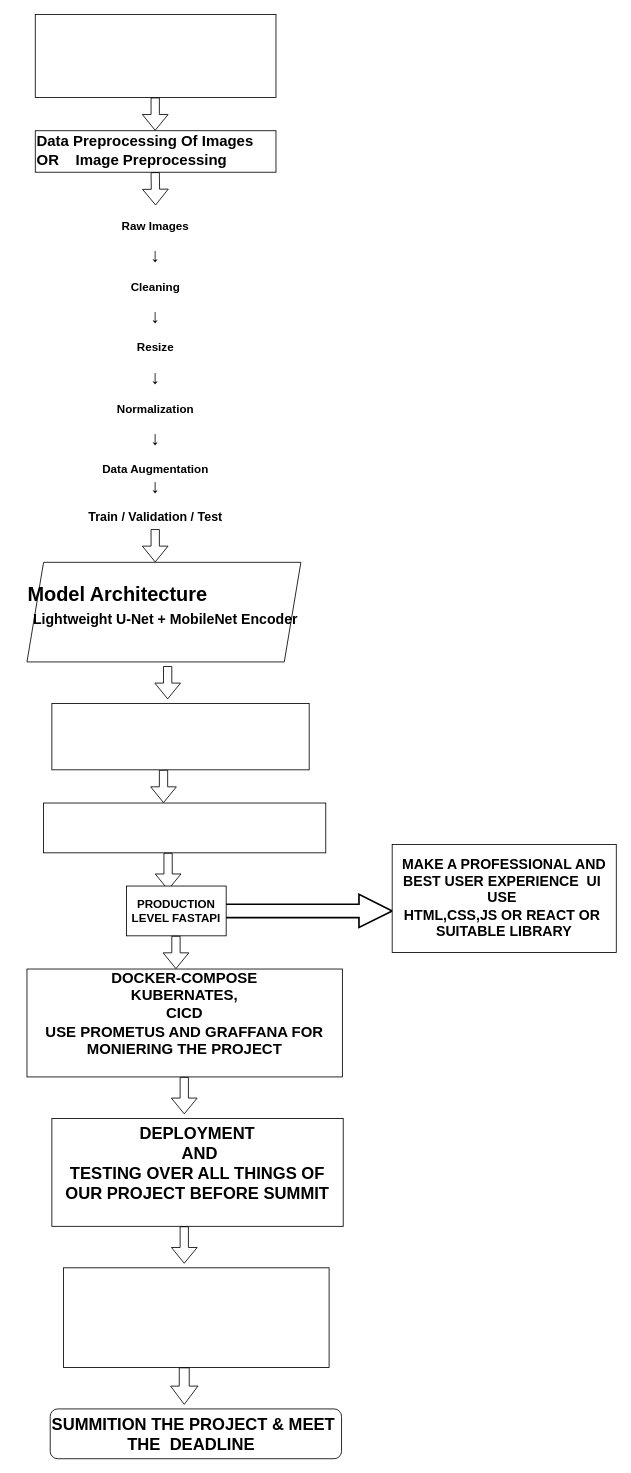
This 631x1473 diagram has some shape labels left out. The centre of each missing label's shape, as x and y in pixels:
Data Collection Of the Cloud Detection Using Kaggle or Others Website: (x=155, y=56)
M LFLOW FOR EVALUATING METRICS AND STORE THE DAGSHUB: (x=180, y=736)
MAKE A PPT AND DOCUMENTATION: (x=196, y=1317)
SAVE THE BEST MODEL AND MAKE A DVC.yml: (x=184, y=827)
